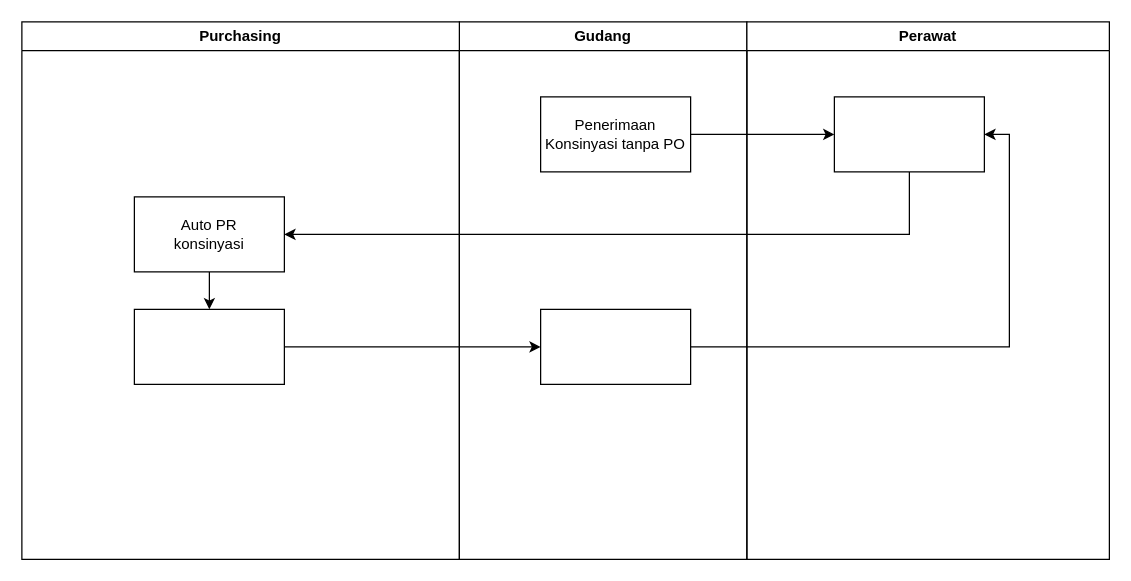
Image size: 1131x581. Some labels were removed from this diagram. Each missing label, with the centre of its shape:
"Penerimaan konsinyasi" belongs at (615,346).
"Penjualan ke pasien" belongs at (908,134).
"PO Konsinyasi" belongs at (208,346).
